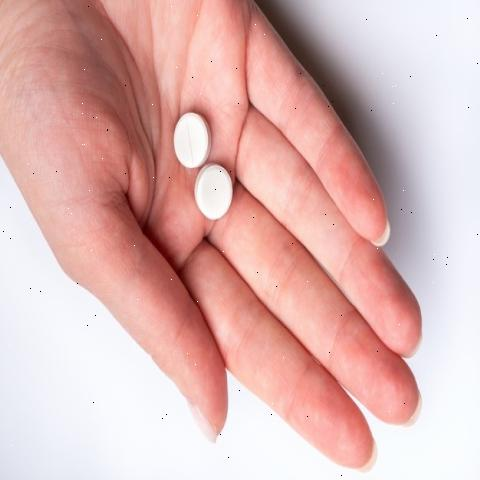Pill: (162, 107, 218, 174), (191, 167, 251, 221)
